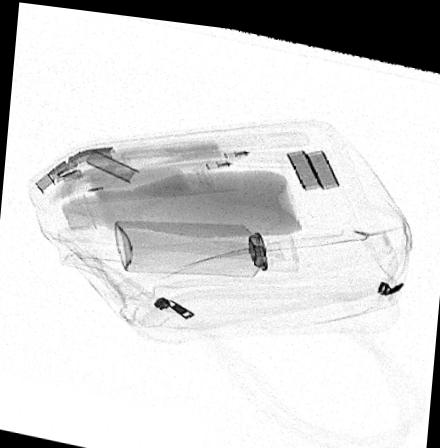Sprayer: (113, 218, 297, 271)
